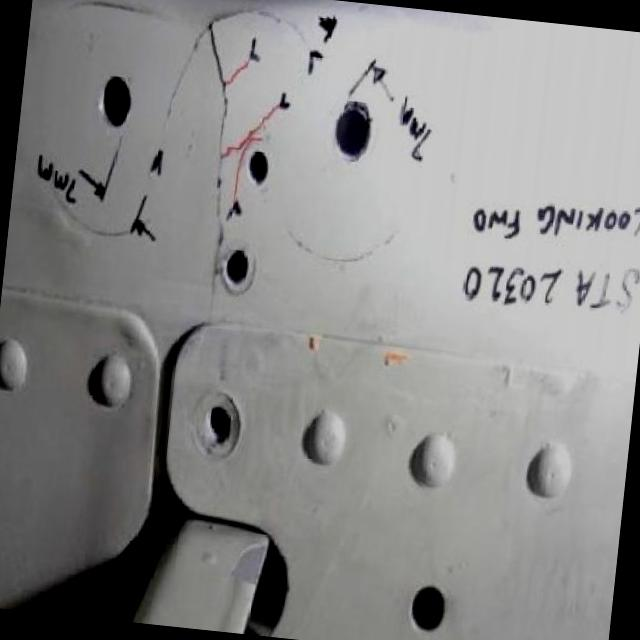crack: (178, 21, 242, 316)
